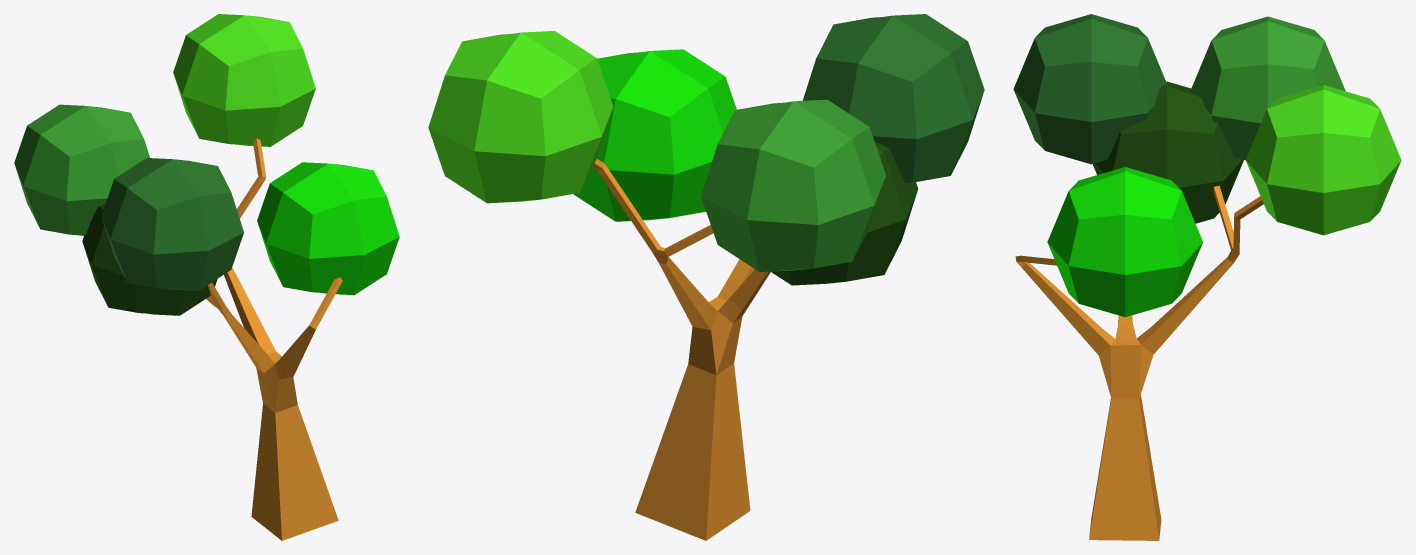
The model's file is Tree.fbx.
3 views of the same model, side by side, from view 1: azimuth 30°, elevation 25°; view 2: azimuth 150°, elevation 25°; view 3: azimuth 270°, elevation 25° (orthographic). The views are drawn at different scales.
Visible parts, largest first — view 1: Cube.005, Cube.001, Cube.003, Cube, Cube.002, Cube.004; view 2: Cube.001, Cube.002, Cube, Cube.005, Cube.003, Cube.004; view 3: Cube.001, Cube.003, Cube.005, Cube, Cube.002, Cube.004.
Part boxes in pixels (bbox=[...]): Cube.005: bbox=[101, 158, 243, 290]; Cube.001: bbox=[173, 14, 315, 146]; Cube.003: bbox=[257, 162, 399, 295]; Cube: bbox=[206, 138, 342, 540]; Cube.002: bbox=[14, 104, 149, 235]; Cube.004: bbox=[82, 203, 217, 315]; Cube.001: bbox=[428, 31, 613, 203]; Cube.002: bbox=[701, 99, 885, 271]; Cube: bbox=[592, 159, 770, 540]; Cube.005: bbox=[802, 14, 984, 182]; Cube.003: bbox=[573, 49, 736, 221]; Cube.004: bbox=[771, 142, 918, 285]; Cube.001: bbox=[1245, 85, 1401, 235]; Cube.003: bbox=[1047, 167, 1202, 317]; Cube.005: bbox=[1013, 14, 1167, 164]; Cube: bbox=[1015, 185, 1263, 540]; Cube.002: bbox=[1190, 16, 1345, 160]; Cube.004: bbox=[1092, 81, 1243, 223].
Size of the model in its own units: 417 by 554 by 418.
